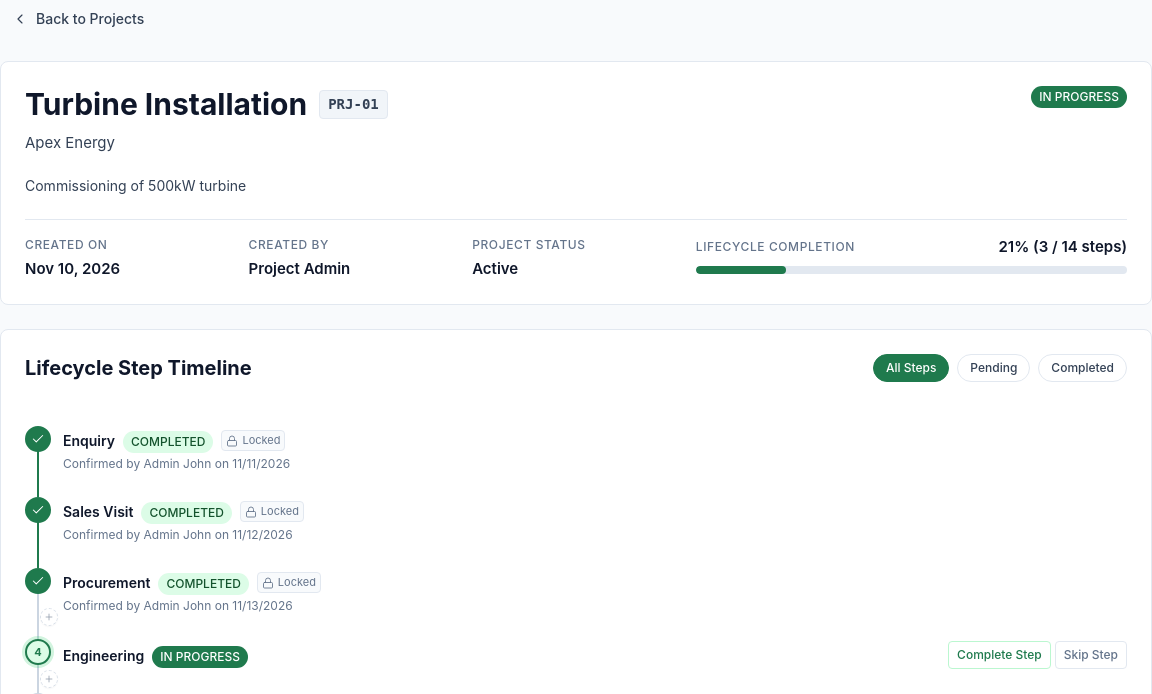
Test: ProjectDetailPage › filters lifecycle steps by status and filters team members
Expected: the button with test id "step-filter-all" is shown, [873,354,949,382]
Expected: the text "Enquiry" is shown, [63,430,115,451]
Click the button with test id "step-filter-pending": (994, 368) [957,354,1030,382]
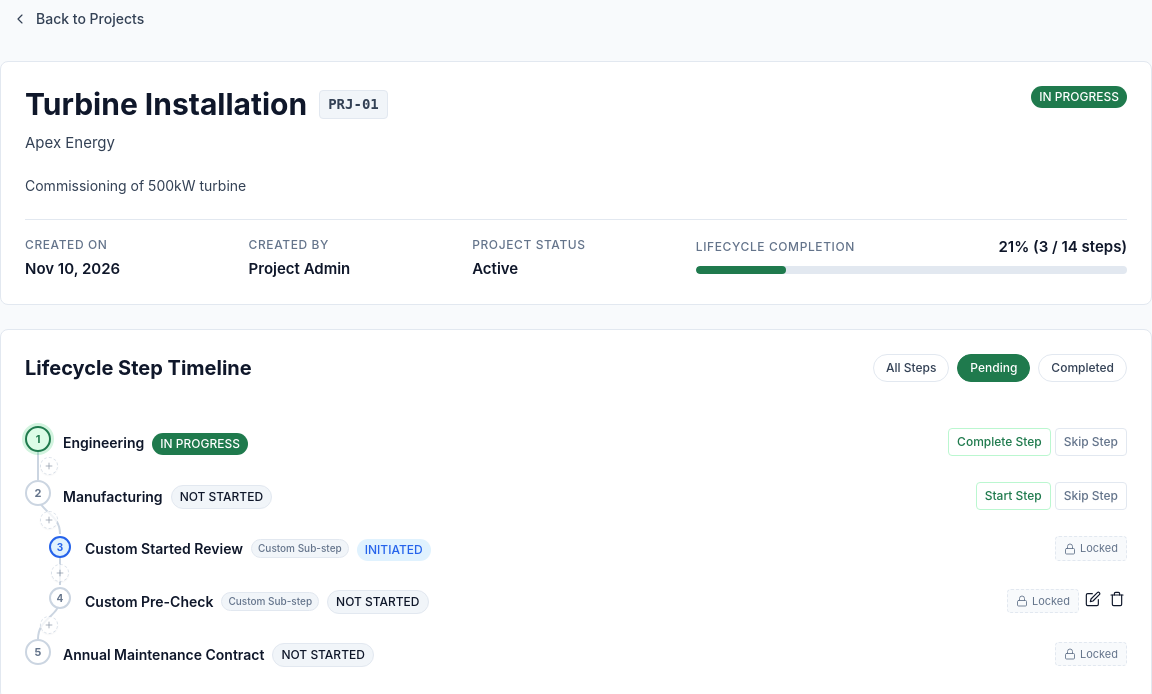
Expected: the text "Engineering" is shown, [63,432,144,452]
Result: the text "Enquiry" is gone
Click the button with test id "step-filter-completed": (1083, 368) [1038,354,1127,382]
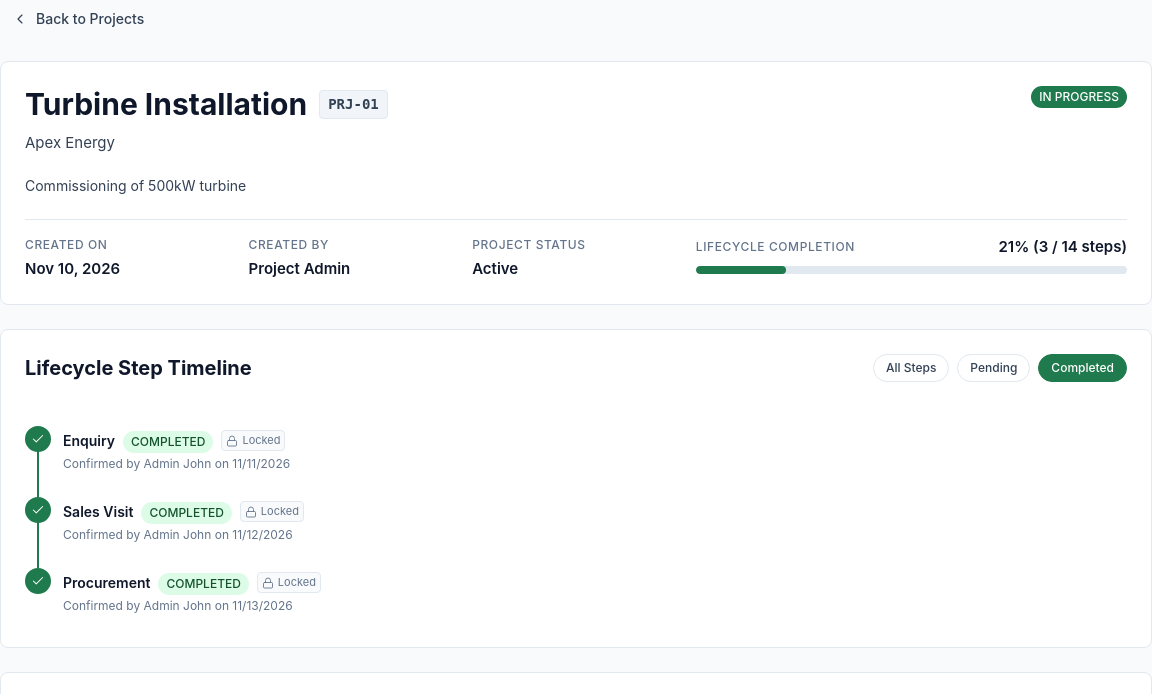
Expected: the text "Engineering" is not shown
Result: the text "Enquiry" is shown at [63,430,115,451]
Click the button with test id "step-filter-all": (911, 368) [873,354,949,382]
(page scrolled)
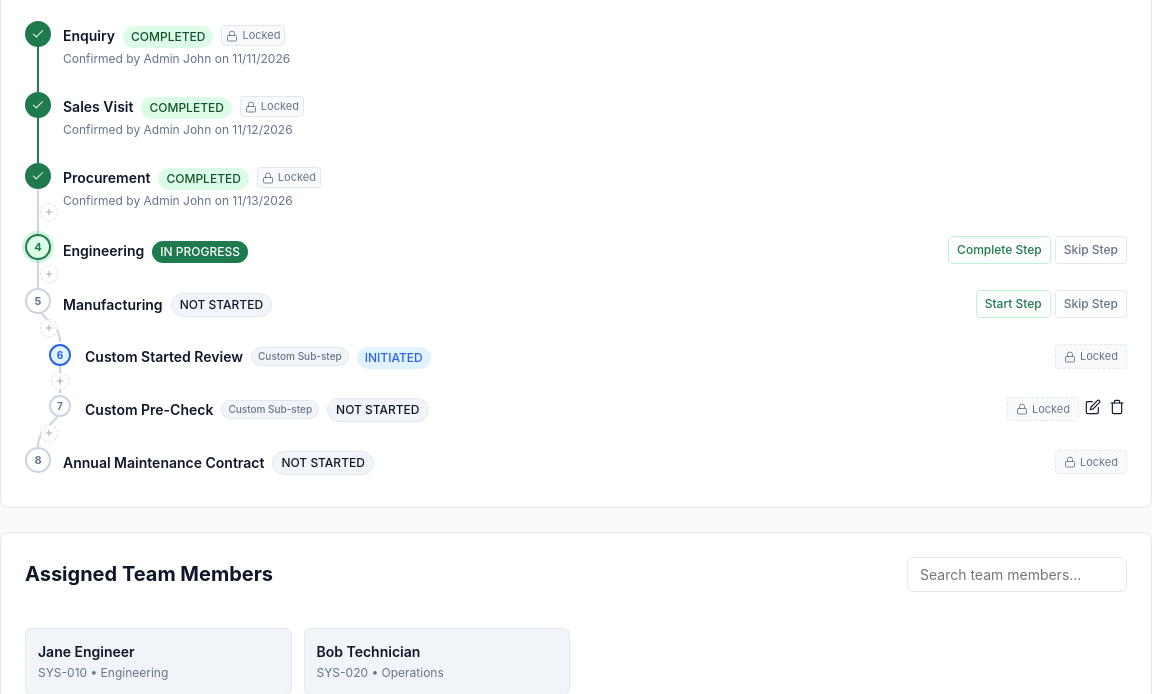
Expected: the text "Jane Engineer" is shown, [38,643,135,660]
Result: the text "Enquiry" is shown at [63,25,115,46]
Result: the text "Engineering" is shown at [63,240,144,260]
In the search field with test id "member-search-input": (1017, 574) [907,557,1127,592], type "Jane"
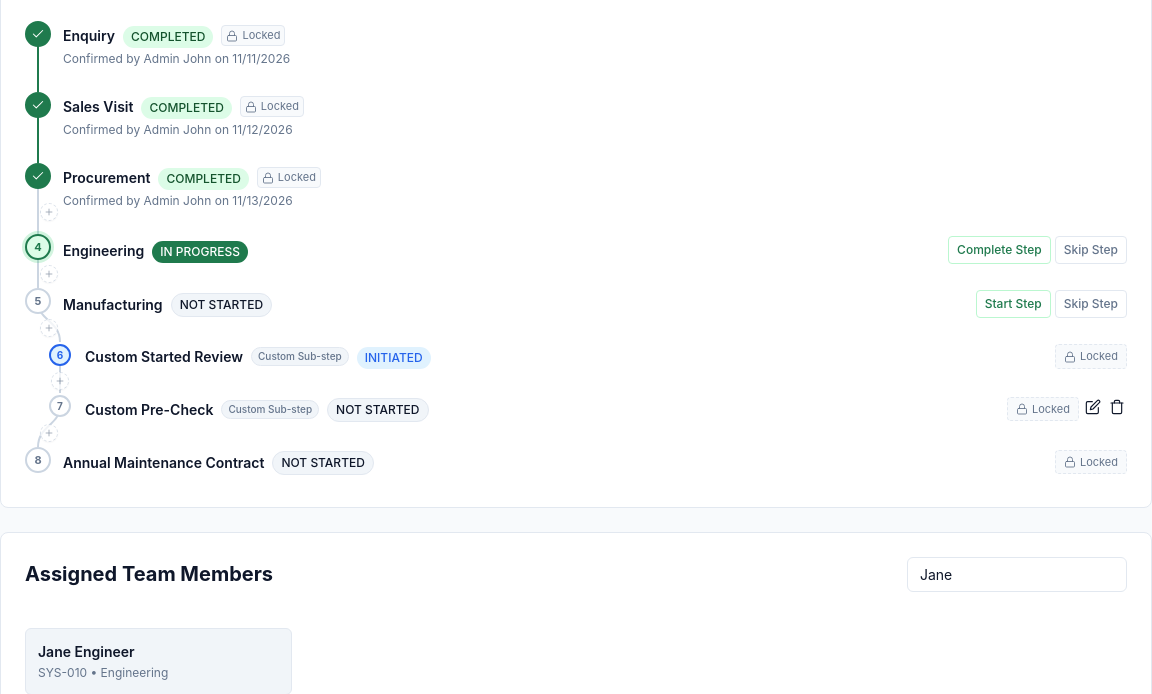
Expected: the text "Jane Engineer" is shown, [38,643,135,660]
Result: the text "Bob Technician" is gone
